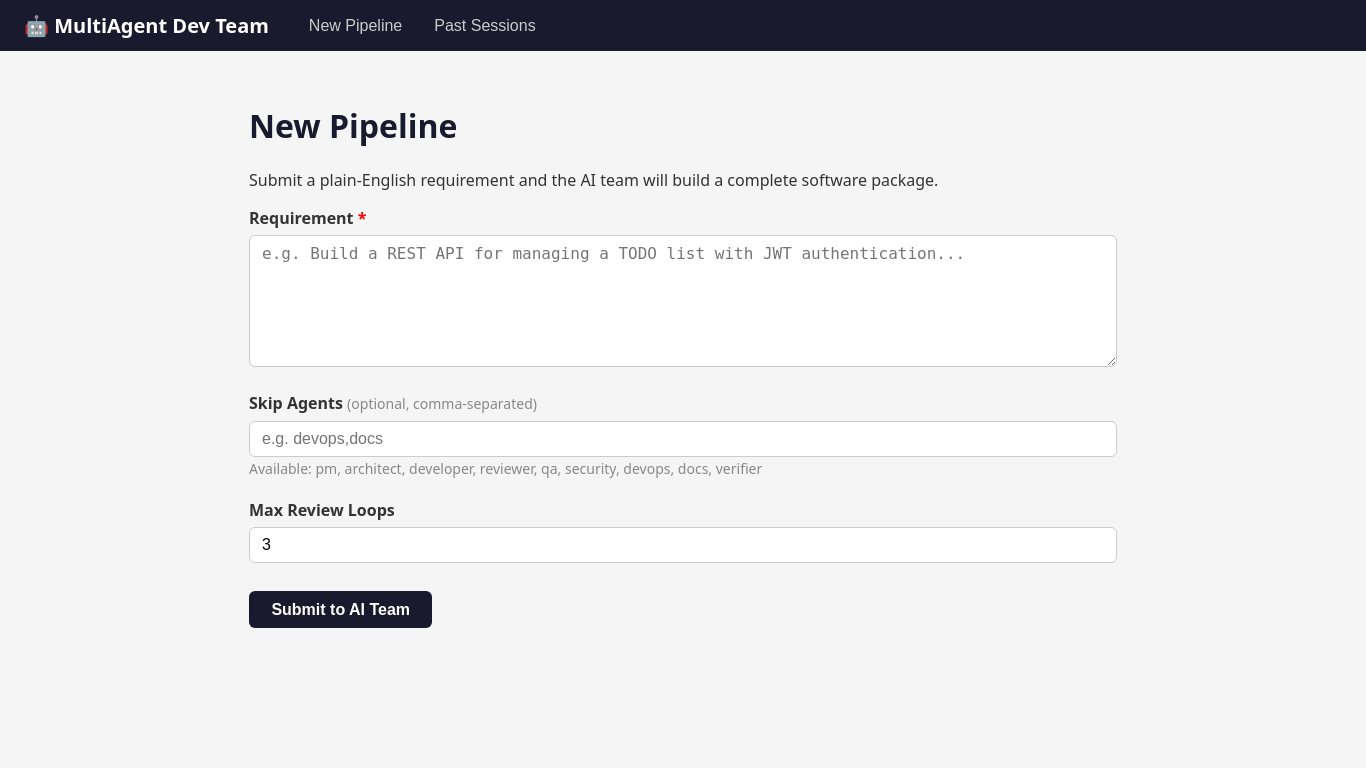
Scenario: App › loads the session after the stream and shows requirements and artifacts
In the text box with test id "requirement-input": (683, 301) [249,235,1117,367], type "Build a TODO REST API with authentication"
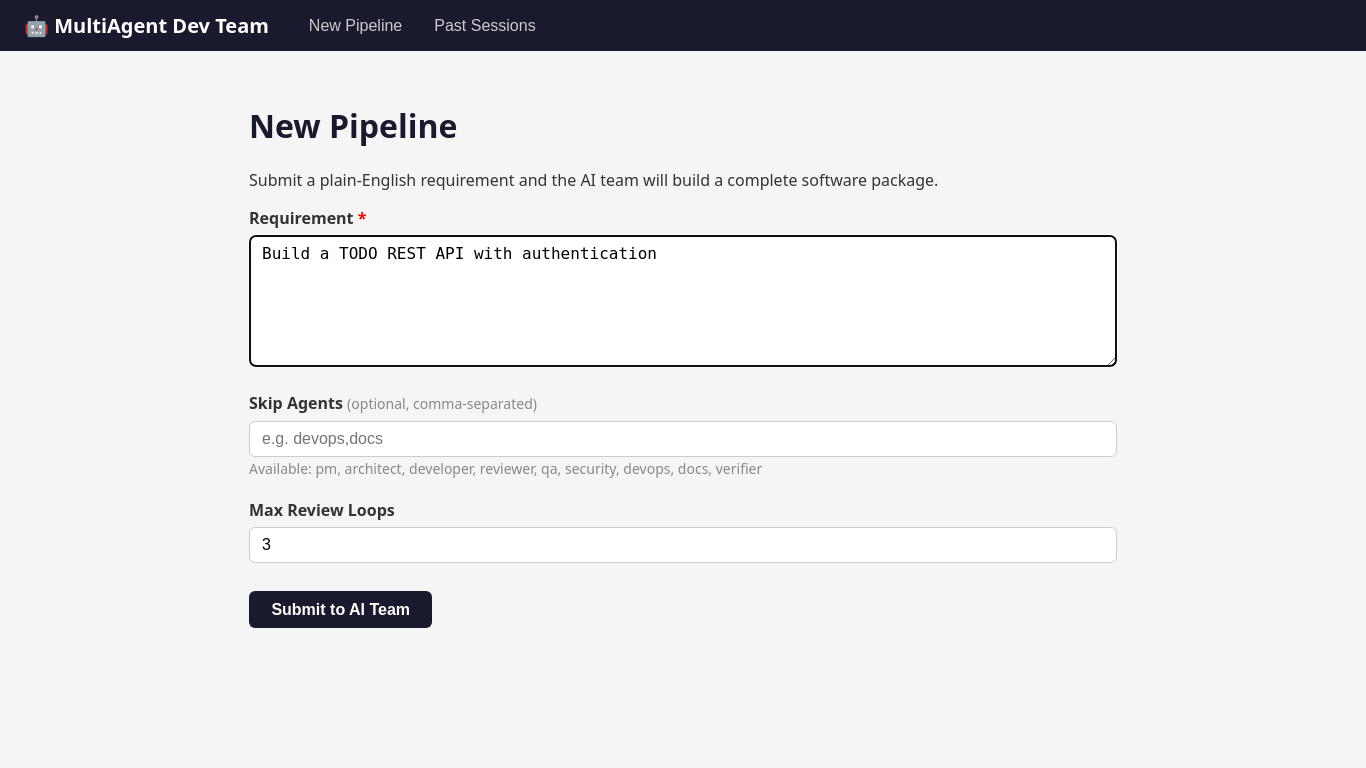
Submit the form with test id "pipeline-form", box [249,207,1117,628]
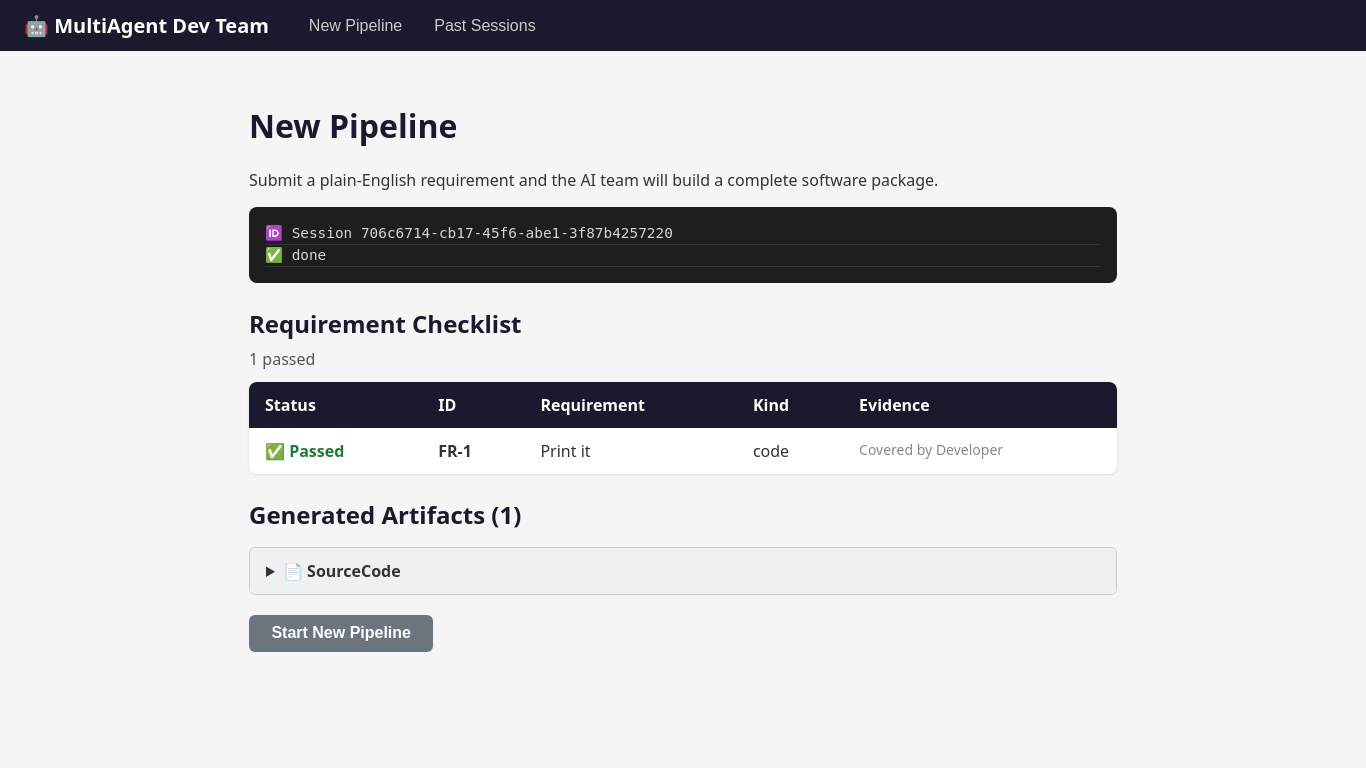
Expected: the element with test id "requirements-section" is shown, [249,307,1117,474]
Expected: the number of rows with test id "requirement-row" is 1, [249,428,1117,474]
Expected: the number of elements with test id "artifact-item" is 1, [249,547,1117,595]
